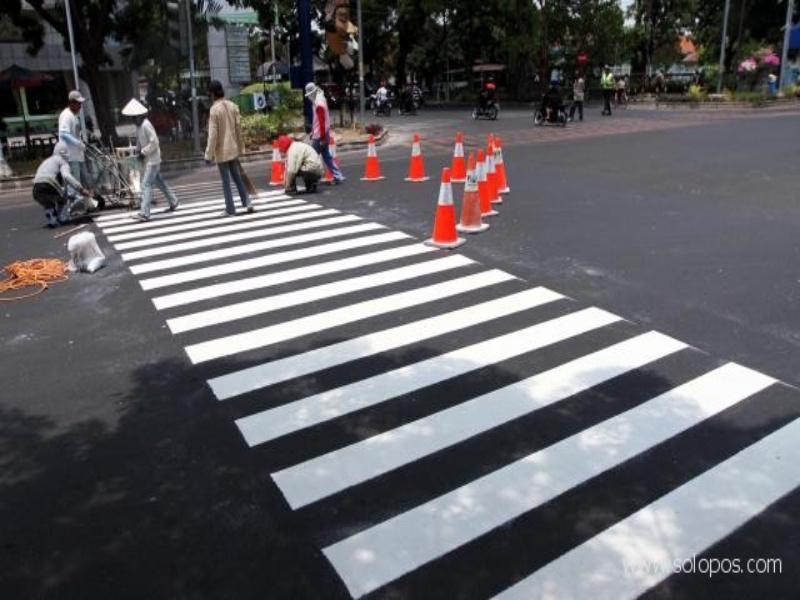zebra cross: (93, 188, 800, 600)
